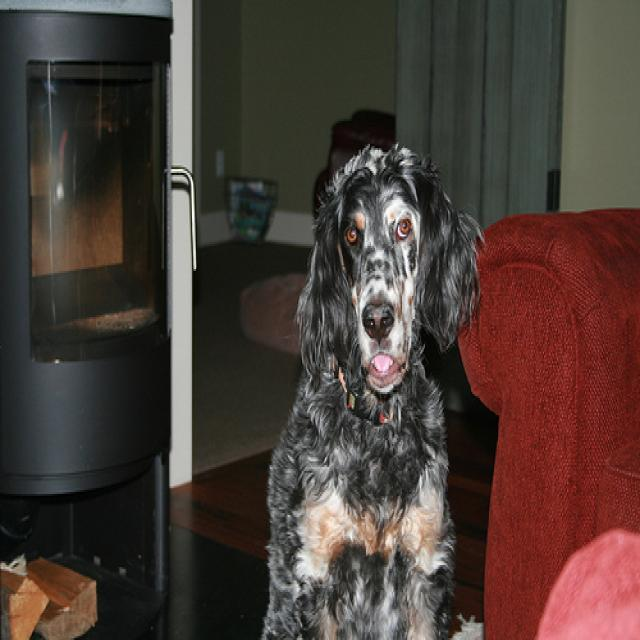dog-english_setter: (253, 133, 492, 636)
